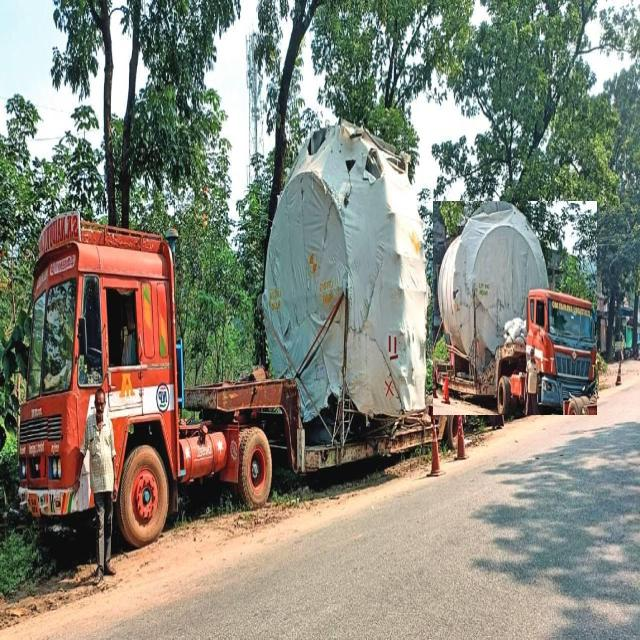truck: (20, 122, 458, 545), (433, 201, 596, 415)
